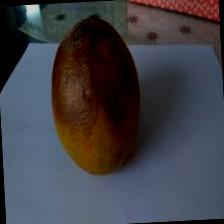Orange Rotten: (42, 7, 160, 182)
